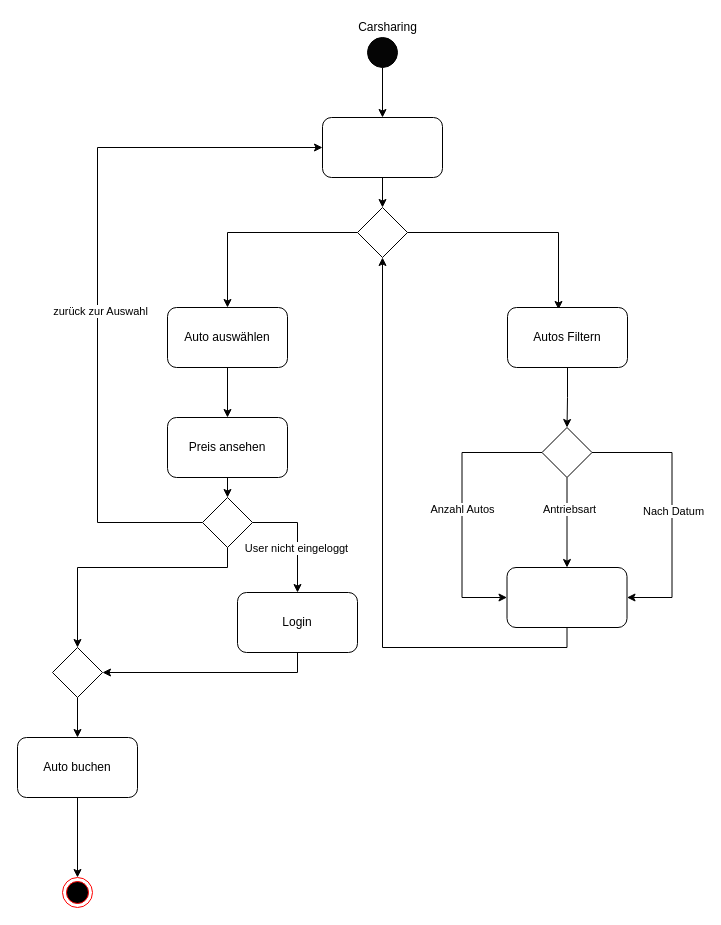
The diagram is 721 pixels wide and 925 high, and some of its shapes have lost their labels. Each missing label, with the box of its shape:
Alle Autos ansehen: (322, 116, 442, 178)
Auto Auswahl anzeigen: (506, 566, 627, 628)
